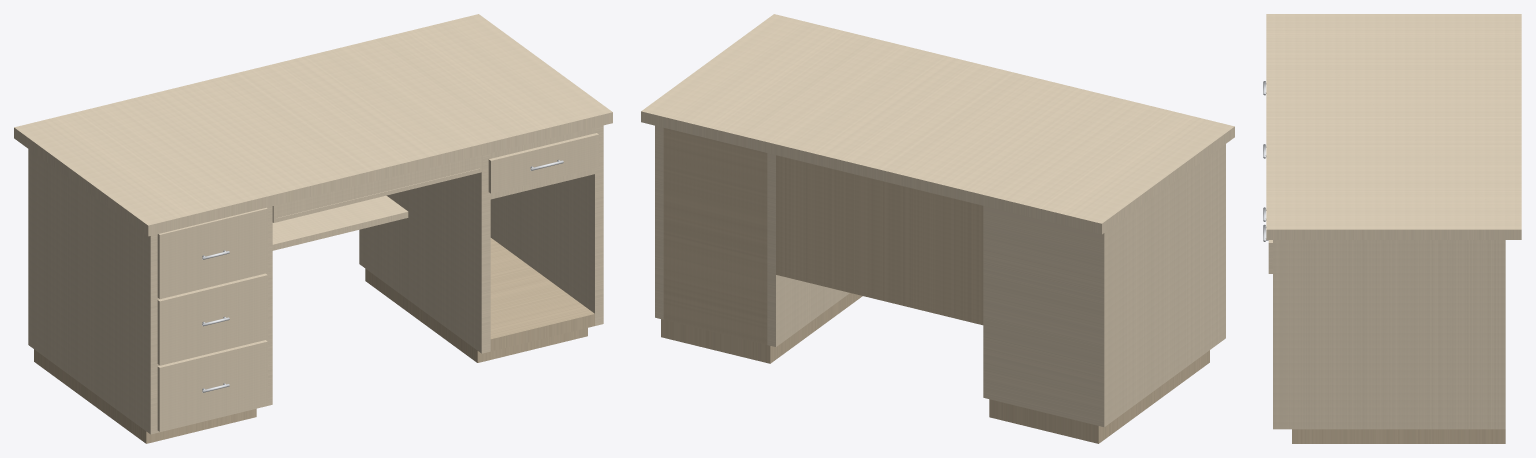
File: mesa de pedidos.glb
3 renders of one model, left to right at view 1: azimuth 30°, elevation 25°; view 2: azimuth 150°, elevation 25°; view 3: azimuth 270°, elevation 25°, orthographic. The views are drawn at different scales.
Parts seen in each view (by area): view 1: Esc_Tablero, Esc_CuerpoIzq, Esc_DerLatIzq, Esc_DerLatDer, Esc_CajonIzq_0, Esc_CajonIzq_1, Esc_CajonIzq_2, Esc_DerSuelo, Esc_CajonDer, Esc_BaldaLibros, Esc_FaldonFrente, Esc_ZocaloIzq (+4 smaller); view 2: Esc_Tablero, Esc_CuerpoIzq, Esc_Modesty, Esc_DerFondo, Esc_DerLatIzq, Esc_ZocaloIzq, Esc_ZocaloDer, Esc_DerLatDer; view 3: Esc_Tablero, Esc_DerLatDer, Esc_ZocaloDer.
Boxes of the visible parts, x1,y1,x2,y2 form: Esc_Tablero: (14, 14, 612, 236); Esc_CuerpoIzq: (28, 149, 272, 434); Esc_DerLatIzq: (359, 153, 490, 353); Esc_DerLatDer: (490, 125, 603, 325); Esc_CajonIzq_0: (157, 340, 267, 431); Esc_CajonIzq_1: (157, 273, 267, 365); Esc_CajonIzq_2: (157, 207, 267, 298); Esc_DerSuelo: (490, 238, 594, 351); Esc_CajonDer: (488, 133, 598, 193); Esc_BaldaLibros: (272, 195, 408, 250); Esc_FaldonFrente: (272, 155, 482, 222); Esc_ZocaloIzq: (34, 349, 256, 443); Esc_Tablero: (641, 14, 1234, 234); Esc_CuerpoIzq: (983, 144, 1225, 427); Esc_Modesty: (776, 155, 983, 325); Esc_DerFondo: (663, 128, 767, 344); Esc_DerLatIzq: (767, 153, 849, 346); Esc_ZocaloIzq: (989, 350, 1209, 443); Esc_ZocaloDer: (661, 293, 862, 363); Esc_DerLatDer: (655, 125, 663, 319); Esc_Tablero: (1266, 14, 1521, 239); Esc_DerLatDer: (1273, 240, 1505, 429); Esc_ZocaloDer: (1292, 429, 1505, 443).
Bounding box in the file's own units: 160 × 76 × 80.97.
Materials: 2 (1 with a texture image).
